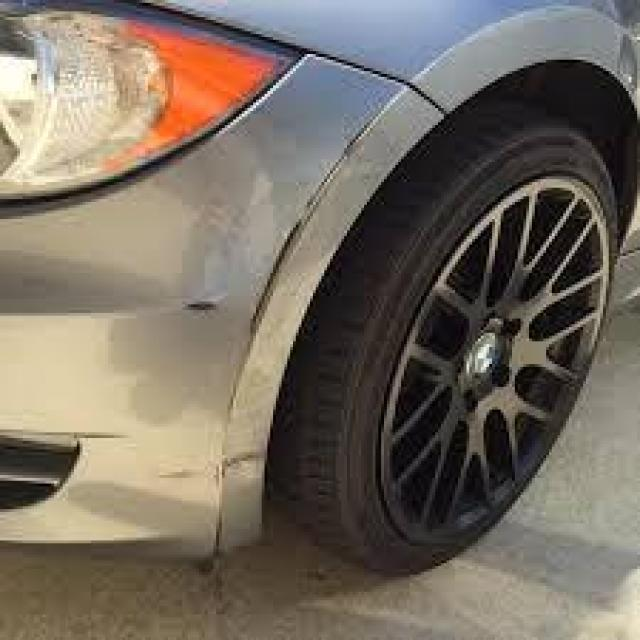damaged: (150, 168, 270, 475)
